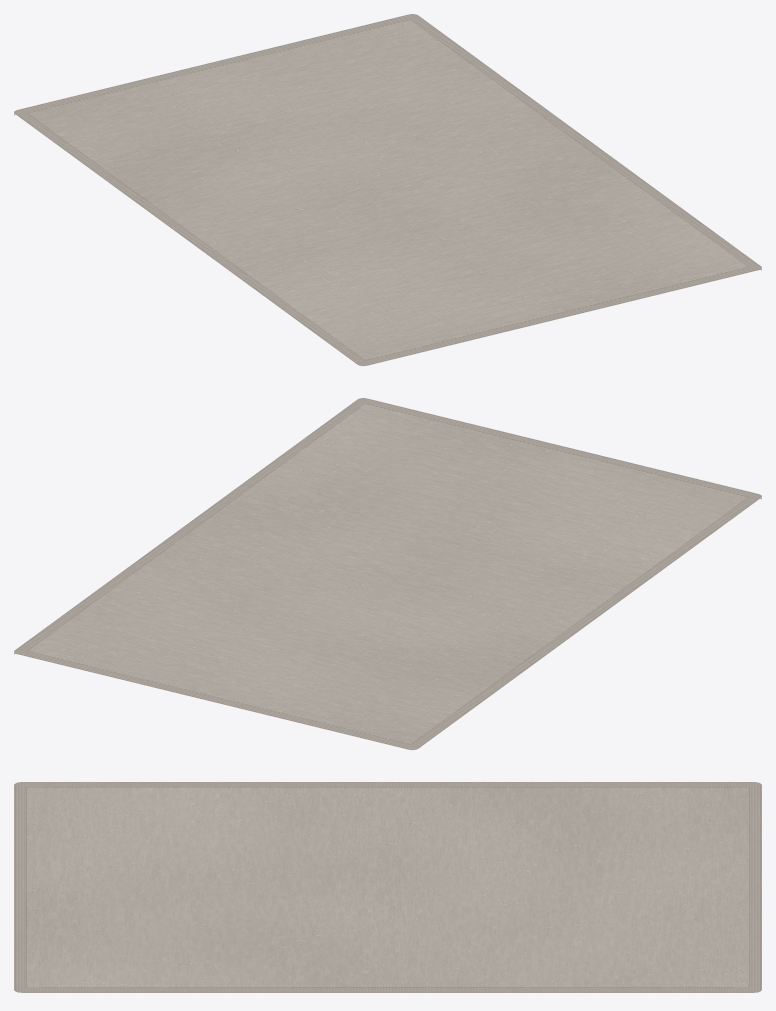
File: beige_S.glb
The picture shows the model from 3 angles, top to bottom: view 1: azimuth 30°, elevation 25°; view 2: azimuth 150°, elevation 25°; view 3: azimuth 270°, elevation 25°; orthographic projection. The views are drawn at different scales.
Parts seen in each view (by area): view 1: reliv_beige_S; view 2: reliv_beige_S; view 3: reliv_beige_S.
Part boxes in pixels (x1,y1,x2,y2): reliv_beige_S: (14,14,761,366); reliv_beige_S: (14,398,761,750); reliv_beige_S: (14,782,761,992).
Bounding box in the file's own units: 1 × 0.009 × 1.5.
2 materials, 1 textured.
